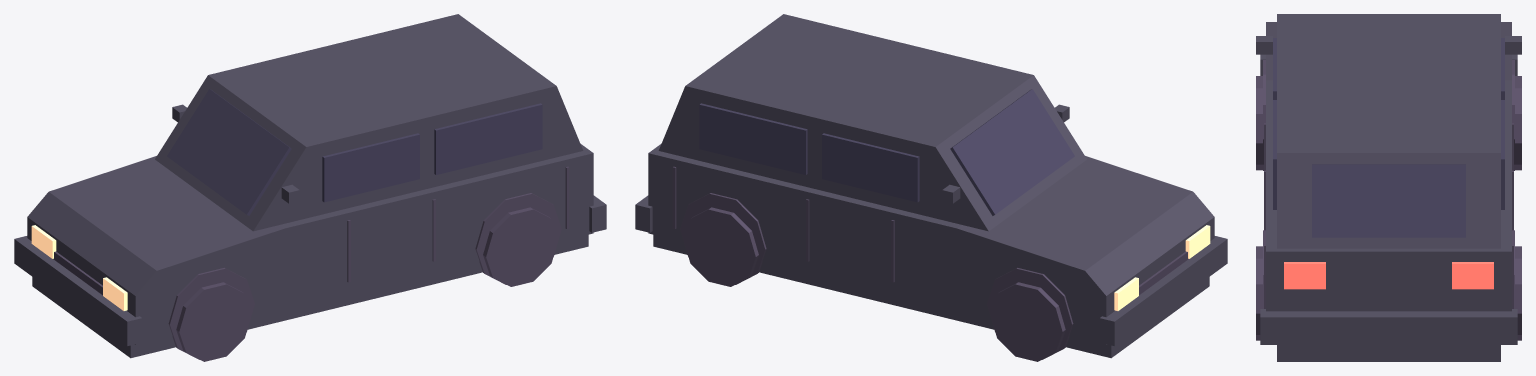
The model's file is VehicleBarricadeIntact.glb.
3 renders of one model, left to right at view 1: azimuth 30°, elevation 25°; view 2: azimuth 150°, elevation 25°; view 3: azimuth 270°, elevation 25°, orthographic. The views are drawn at different scales.
Visible parts, largest first — view 1: chassis, cab, side-window (×2), wheel (×2), windscreen, base, bumper (×2), wheel-arch (×2), headlight (×2), grille; view 2: chassis, cab, side-window (×2), wheel (×2), windscreen, base, bumper (×2), wheel-arch (×2), headlight (×2), grille; view 3: cab, chassis, rear-window, bumper, base, wheel (×4), taillight (×2), side-window (×4), mirror (×2), wheel-arch (×2).
Boxes of the visible parts, <box> form: chassis: <box>27,144,593,344</box>; cab: <box>155,14,583,231</box>; side-window (×2): <box>322,103,542,202</box>; wheel (×2): <box>176,207,558,361</box>; windscreen: <box>167,89,291,215</box>; base: <box>32,234,588,358</box>; bumper (×2): <box>14,195,606,345</box>; wheel-arch (×2): <box>168,193,561,359</box>; headlight (×2): <box>31,225,127,310</box>; grille: <box>53,251,102,295</box>; chassis: <box>648,144,1214,344</box>; cab: <box>658,14,1086,231</box>; side-window (×2): <box>699,103,919,202</box>; wheel (×2): <box>683,207,1065,361</box>; windscreen: <box>950,89,1074,215</box>; base: <box>653,234,1209,358</box>; bumper (×2): <box>635,195,1227,345</box>; wheel-arch (×2): <box>680,193,1073,359</box>; headlight (×2): <box>1114,225,1210,310</box>; grille: <box>1139,251,1188,295</box>; cab: <box>1277,14,1500,248</box>; chassis: <box>1266,22,1511,311</box>; rear-window: <box>1312,164,1465,237</box>; bumper: <box>1260,309,1517,344</box>; base: <box>1277,345,1500,361</box>; wheel (×4): <box>1256,76,1521,340</box>; taillight (×2): <box>1284,262,1493,289</box>; side-window (×4): <box>1273,38,1504,209</box>; mirror (×2): <box>1256,36,1521,54</box>; wheel-arch (×2): <box>1263,60,1514,170</box>.
Size of the model in its own units: 4.5 by 1.62 by 1.9.
